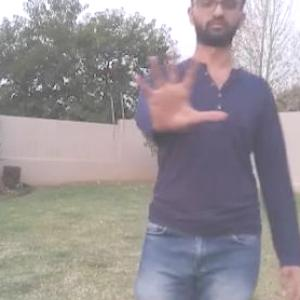follow_hand: (125, 31, 228, 135)
